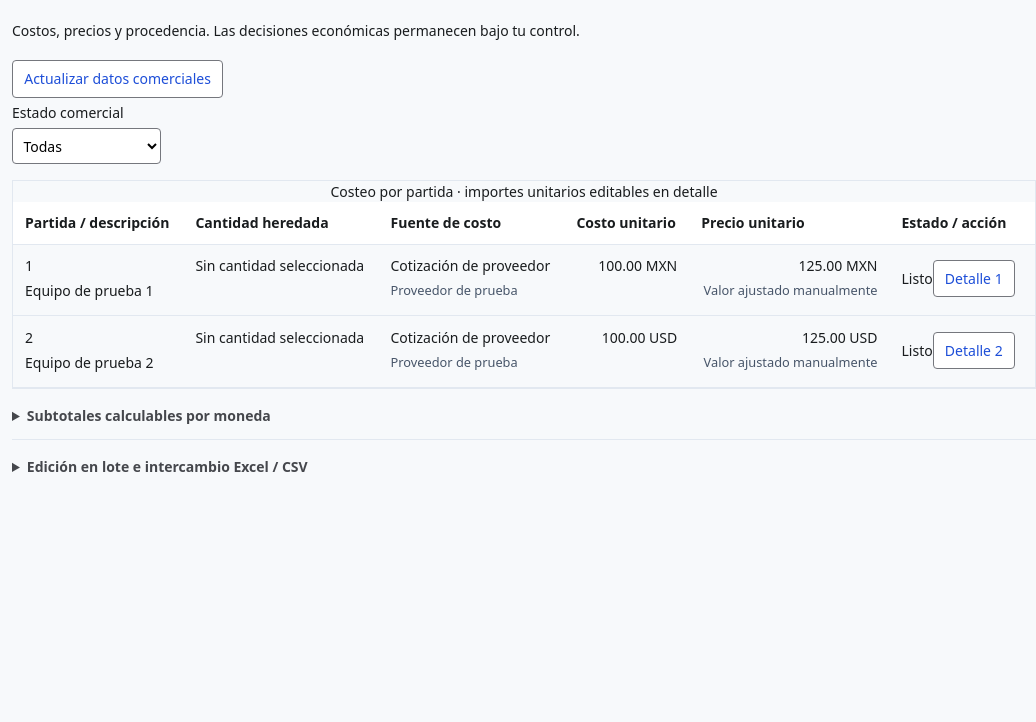
UIR5-01–09/33: canonical rows, exact currency strings, origins and separate margin/markup
Expected: the text "Equipo de prueba 1" is shown, [25,280,171,301]
Expected: the table shows "100.00 MXN", [598,256,677,275]
Click the button "Detalle 1": (974, 279) [933,260,1015,297]
(page scrolled)
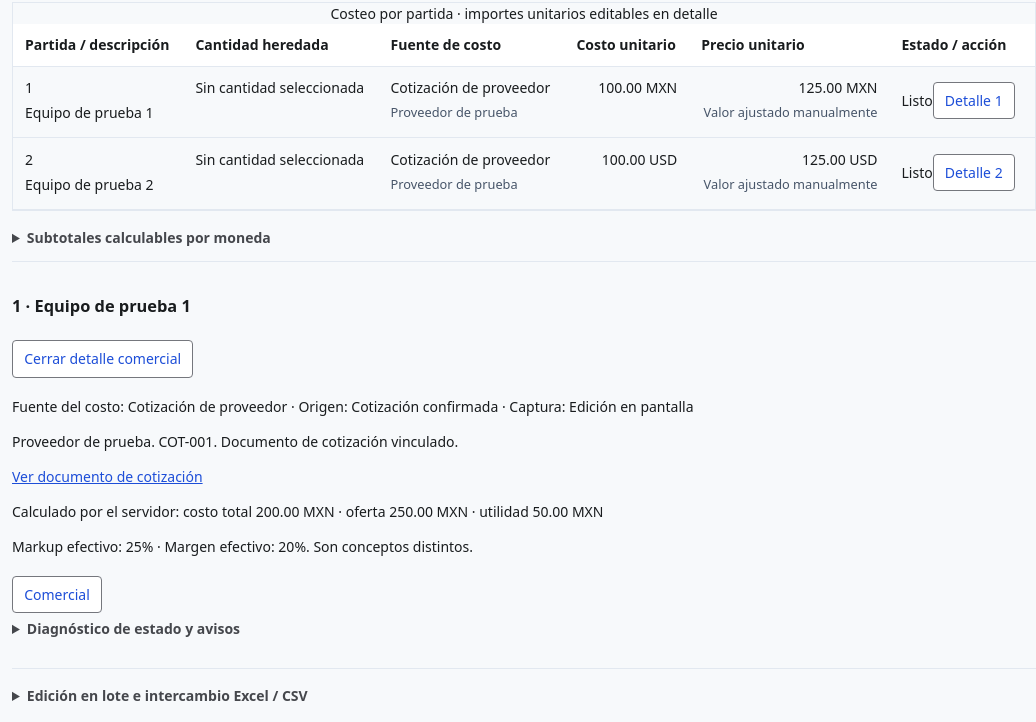
Now the element labelled "detalle comercial" shows "Cotización confirmada", box [351,397,498,416]
Now the element labelled "detalle comercial" shows "Markup efectivo: 25% · Margen efectivo: 20%", box [12,261,1035,655]
